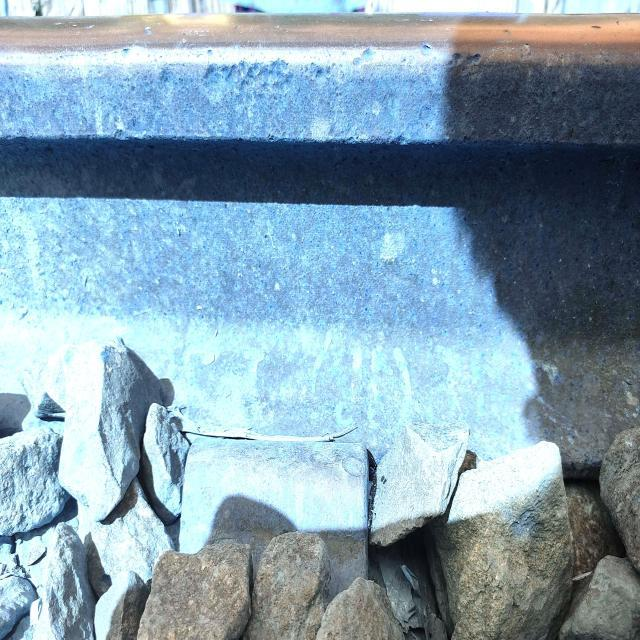Good Fasteners: (156, 416, 398, 605)
